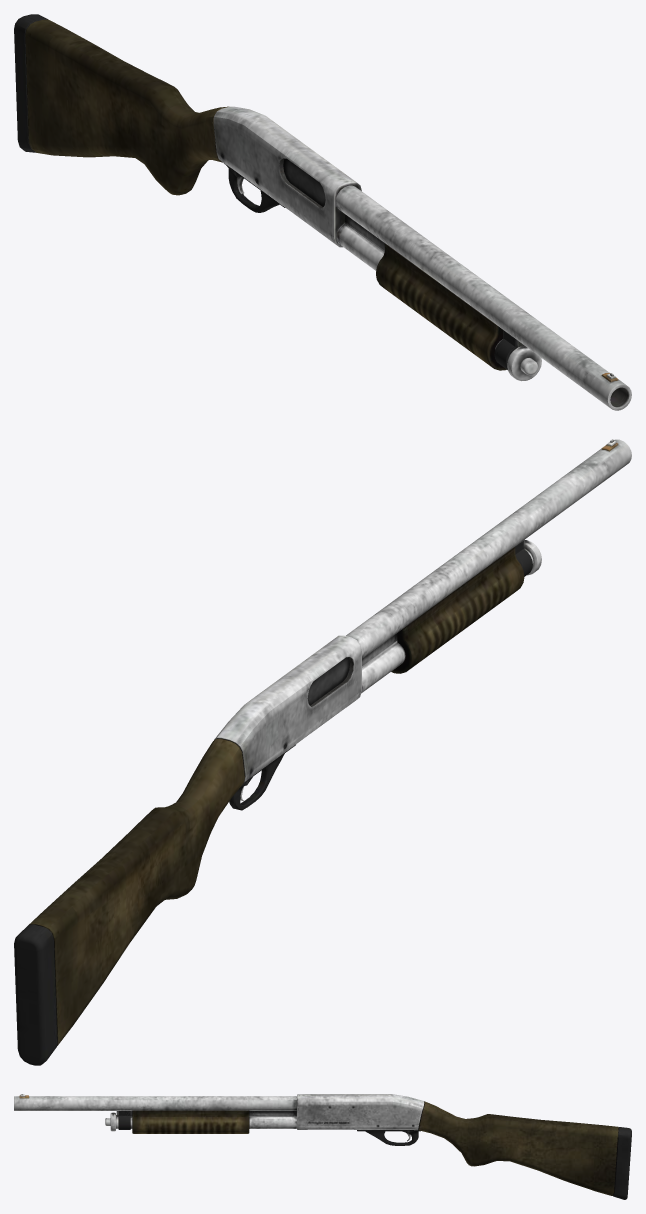
Rendered from shotgun.glb.
The picture shows the model from 3 angles, top to bottom: view 1: azimuth 30°, elevation 25°; view 2: azimuth 150°, elevation 25°; view 3: azimuth 270°, elevation 25°; orthographic projection. The views are drawn at different scales.
Parts seen in each view (by area): view 1: Gun; view 2: Gun; view 3: Gun.
Boxes of the visible parts, <box> form: Gun: <box>14,14,631,410</box>; Gun: <box>14,439,631,1065</box>; Gun: <box>14,1094,631,1199</box>.
Size of the model in its own units: 0.0736 by 0.3734 by 2.
1 material, 1 textured.
